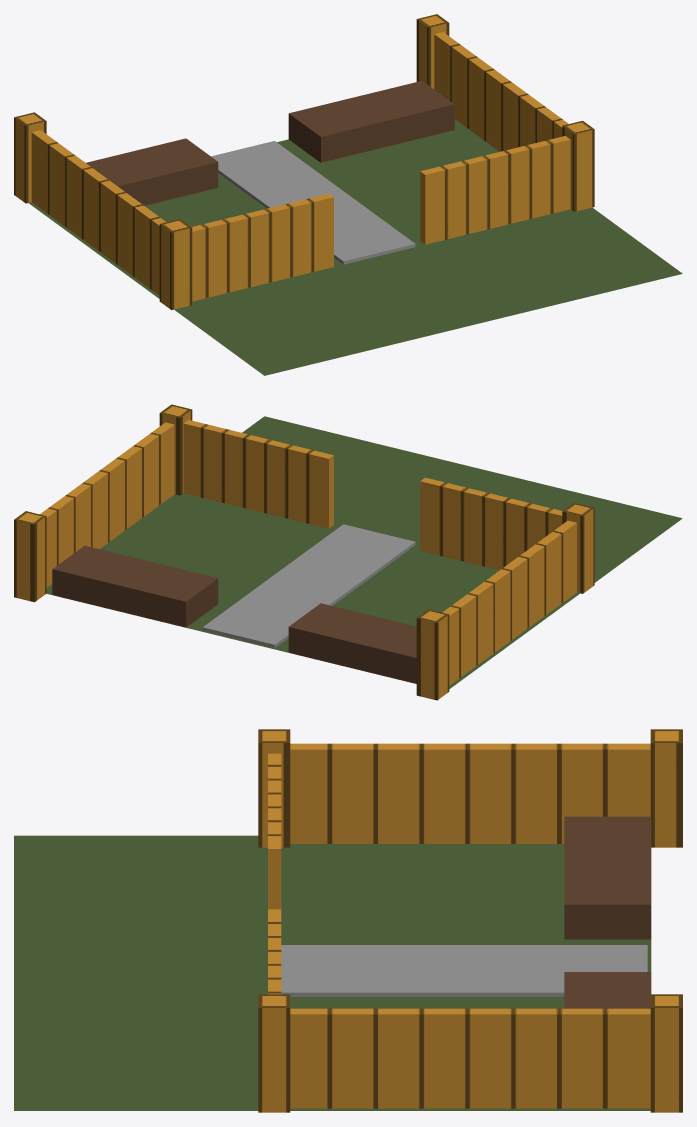
The model's file is Frontyard.fbx.
3 views of the same model, one above another, from view 1: azimuth 30°, elevation 25°; view 2: azimuth 150°, elevation 25°; view 3: azimuth 270°, elevation 25° (orthographic). The views are drawn at different scales.
Visible parts, largest first — view 1: Plane.004, Cube.086, Cube.087, Plane.006, Plane.005; view 2: Plane.004, Cube.086, Cube.087, Plane.006, Plane.005; view 3: Plane.004, Cube.086, Plane.005, Plane.006, Cube.087.
Boxes of the visible parts, x1,y1,x2,y2 form: Plane.004: (28, 119, 682, 375); Cube.086: (14, 14, 594, 310); Cube.087: (192, 136, 570, 301); Plane.006: (86, 81, 454, 205); Plane.005: (211, 141, 415, 264); Plane.004: (46, 416, 682, 688); Cube.086: (14, 404, 594, 700); Cube.087: (183, 420, 562, 570); Plane.006: (52, 545, 416, 683); Plane.005: (202, 524, 415, 647); Plane.004: (14, 835, 651, 1110); Cube.086: (258, 729, 682, 1112); Plane.005: (281, 945, 647, 996); Plane.006: (564, 816, 651, 1008); Cube.087: (268, 753, 281, 994).
Size of the model in its own units: 4.56 by 0.7981 by 4.63.
